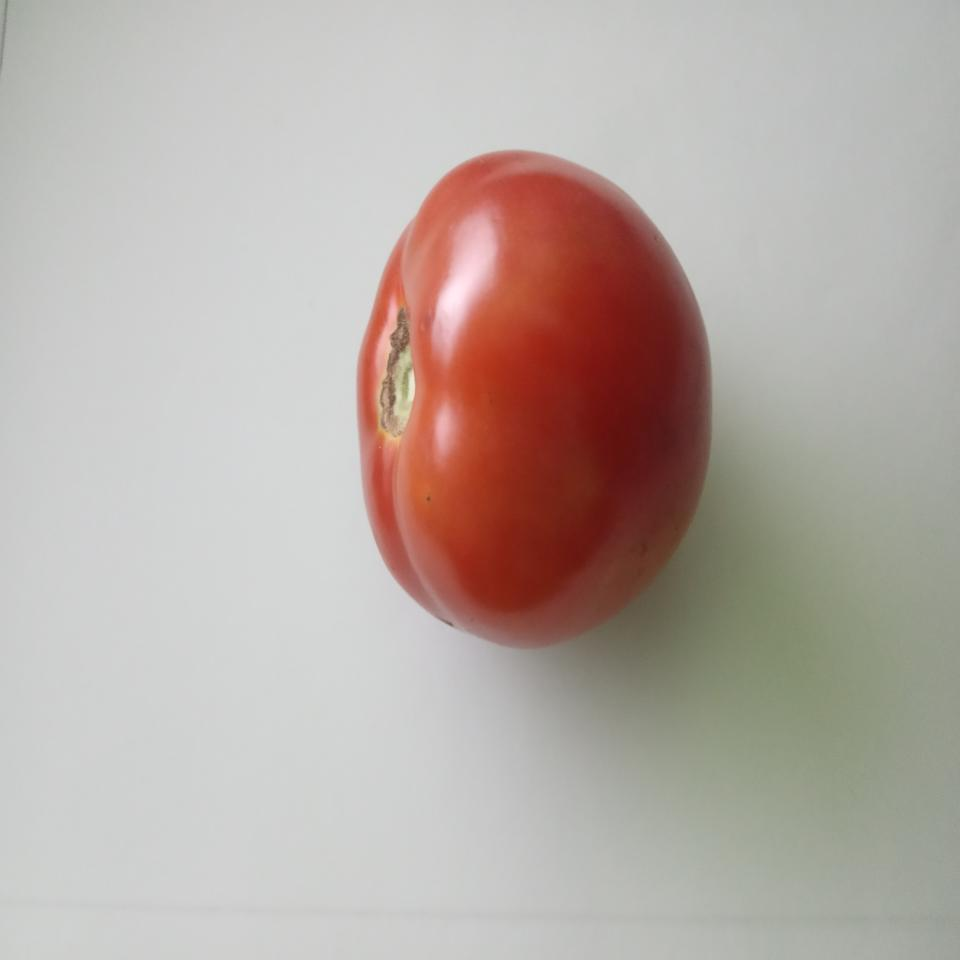Healthy: (350, 145, 715, 650)
